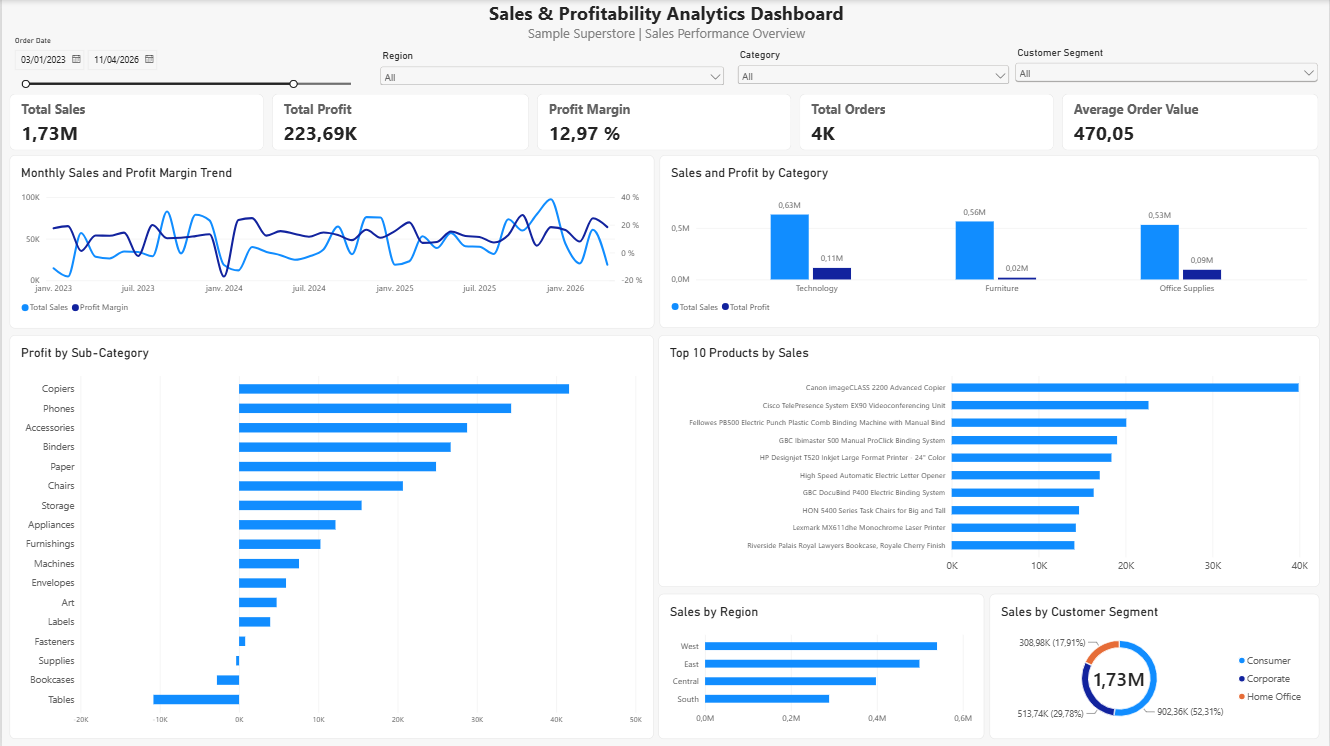

Layout of this report page (visuals, bound fields, positions):
{"tool":"powerbi","page":{"name":"Sales Performance Overview","canvas":[1920,1080],"ordinal":0},"visuals":[{"type":"textbox","box":[31.2,0,1862.5,61.2],"z":0},{"type":"lineChart","title":"Monthly Sales and Profit Margin Trend","fields":{"Category":["Orders.Order Date.Variation.Date Hierarchy.Year","Orders.Order Date.Variation.Date Hierarchy.Month"],"Y":["Orders.Total Sales"],"Y2":["Orders.Profit Margin"]},"box":[10,223.8,933.8,251.2],"z":1000},{"type":"clusteredColumnChart","title":"Sales and Profit by Category","fields":{"Category":["Orders.Category"],"Y":["Orders.Total Sales","Orders.Total Profit"]},"box":[952.5,225,955,250],"z":2000},{"type":"clusteredBarChart","title":"Sales by Region","fields":{"Category":["Orders.Region"],"Y":["Orders.Total Sales"]},"box":[950,860,472.2,210],"z":3000},{"type":"clusteredBarChart","title":"Top 10 Products by Sales","fields":{"Category":["Orders.Product Name"],"Y":["Orders.Total Sales"]},"box":[950,485,957.5,365],"z":4000},{"type":"clusteredBarChart","title":"Profit by Sub-Category","fields":{"Category":["Orders.Sub-Category"],"Y":["Orders.Total Profit"]},"box":[10,485,932.5,585],"z":5000},{"type":"donutChart","title":"Sales by Customer Segment","fields":{"Category":["Orders.Segment"],"Y":["Orders.Total Sales"]},"box":[1430,860,477.5,210],"z":6000},{"type":"cardVisual","fields":{"Data":["Orders.Total Sales"]},"box":[10,135,368.8,82.5],"z":7000},{"type":"cardVisual","fields":{"Data":["Orders.Total Profit"]},"box":[390,135.3,372.5,82.5],"z":8000},{"type":"cardVisual","fields":{"Data":["Orders.Profit Margin"]},"box":[775,135.3,368.8,82.5],"z":9000},{"type":"cardVisual","fields":{"Data":["Orders.Total Orders"]},"box":[1153.8,135.3,368.8,82.5],"z":10000},{"type":"cardVisual","fields":{"Data":["Orders.Average Order Value"]},"box":[1535,135.3,371.2,82.5],"z":11000},{"type":"slicer","title":"Order Date","fields":{"Values":["Orders.Order Date"]},"box":[10,52.5,512.5,80],"z":12000},{"type":"slicer","fields":{"Values":["Orders.Region"]},"box":[542.5,72.5,507.5,50],"z":13000},{"type":"slicer","fields":{"Values":["Orders.Segment"]},"box":[1462.5,67.5,447.5,55],"z":14000},{"type":"slicer","fields":{"Values":["Orders.Category"]},"box":[1060,70,402.5,50],"z":15000}]}

Visuals, with their boxes in screenshot pixels (x1, y1, x2, y2), scaled from the page's 1920x1080 canvas onto the 1330x746 screenshot:
textbox: 22,0,1312,42
"Monthly Sales and Profit Margin Trend" lineChart: 7,155,654,328
"Sales and Profit by Category" clusteredColumnChart: 660,155,1321,328
"Sales by Region" clusteredBarChart: 658,594,985,739
"Top 10 Products by Sales" clusteredBarChart: 658,335,1321,587
"Profit by Sub-Category" clusteredBarChart: 7,335,653,739
"Sales by Customer Segment" donutChart: 991,594,1321,739
cardVisual - Orders.Total Sales: 7,93,262,150
cardVisual - Orders.Total Profit: 270,93,528,150
cardVisual - Orders.Profit Margin: 537,93,792,150
cardVisual - Orders.Total Orders: 799,93,1055,150
cardVisual - Orders.Average Order Value: 1063,93,1320,150
"Order Date" slicer: 7,36,362,92
slicer - Orders.Region: 376,50,727,85
slicer - Orders.Segment: 1013,47,1323,85
slicer - Orders.Category: 734,48,1013,83
